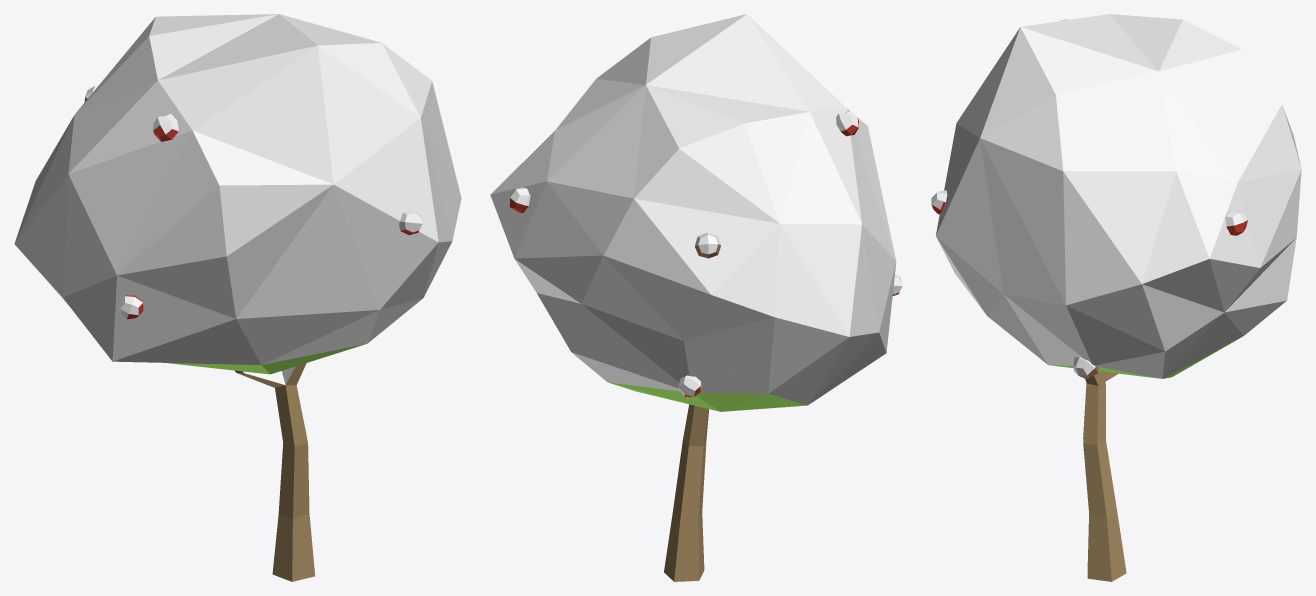
The model's file is Apple_Tree_Apples_m_Snow_03_LOD.fbx.
3 views of the same model, side by side, from view 1: azimuth 30°, elevation 25°; view 2: azimuth 150°, elevation 25°; view 3: azimuth 270°, elevation 25° (orthographic). The views are drawn at different scales.
Visible parts, largest first — view 1: Apple_Tree_Apples_m_Snow_03_LOD0; view 2: Apple_Tree_Apples_m_Snow_03_LOD0; view 3: Apple_Tree_Apples_m_Snow_03_LOD0.
Part boxes in pixels (x1,y1,x2,y2): Apple_Tree_Apples_m_Snow_03_LOD0: [14, 14, 461, 581]; Apple_Tree_Apples_m_Snow_03_LOD0: [490, 14, 902, 581]; Apple_Tree_Apples_m_Snow_03_LOD0: [931, 14, 1301, 581].
Size of what is drawn, in the model's own units: 510 by 711 by 445.
